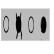correct: (40, 14, 47, 36)
not correct: (14, 10, 22, 42)
